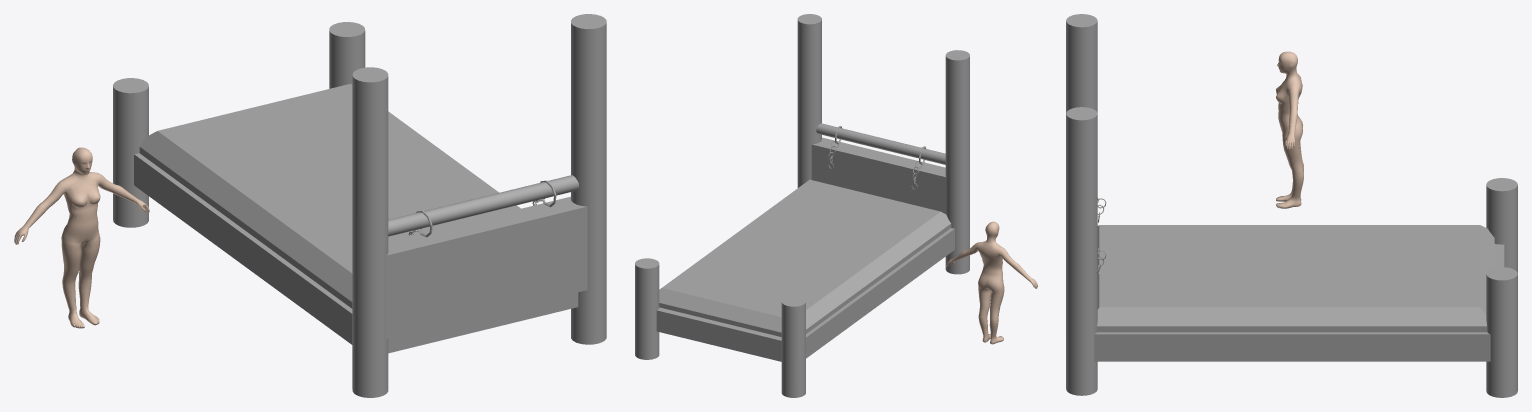
Rendered from Asset_Bed_1_Scaled.fbx.
The picture shows the model from 3 angles, left to right: view 1: azimuth 30°, elevation 25°; view 2: azimuth 150°, elevation 25°; view 3: azimuth 270°, elevation 25°; orthographic projection. The views are drawn at different scales.
Parts seen in each view (by area): view 1: pCube1, pCube2, pasted__pCylinder1 (×2), pCylinder1, pasted__pCube1, pasted__pasted__pasted__pasted__pCylinder1 (×2), CharacterFemale:woman; view 2: pCube1, pasted__pCube1, pCube2, pasted__pCylinder1 (×2), pCylinder1, pasted__pasted__pasted__pasted__pCylinder1 (×2), CharacterFemale:woman; view 3: pCube1, pasted__pCube1, pasted__pCylinder1, pasted__pasted__pasted__pasted__pCylinder1 (×2), pCylinder1, CharacterFemale:woman.
Part boxes in pixels (box(x1,y1,x2,y2)): pCube1: box(139, 84, 520, 308); pCube2: box(386, 196, 587, 338); pasted__pCylinder1 (×2): box(388, 14, 606, 344); pCylinder1: box(352, 67, 388, 397); pasted__pCube1: box(134, 153, 578, 353); pasted__pasted__pasted__pasted__pCylinder1 (×2): box(113, 22, 365, 227); CharacterFemale:woman: box(14, 147, 149, 328); pCube1: box(659, 179, 951, 336); pasted__pCube1: box(656, 228, 954, 361); pCube2: box(811, 137, 946, 214); pasted__pCylinder1 (×2): box(797, 14, 945, 187); pCylinder1: box(945, 50, 969, 274); pasted__pasted__pasted__pasted__pCylinder1 (×2): box(635, 258, 805, 397); CharacterFemale:woman: box(946, 221, 1037, 344); pCube1: box(1097, 225, 1494, 332); pasted__pCube1: box(1094, 244, 1504, 361); pasted__pCylinder1: box(1066, 107, 1097, 395); pasted__pasted__pasted__pasted__pCylinder1 (×2): box(1486, 178, 1517, 397); pCylinder1: box(1066, 14, 1097, 113); CharacterFemale:woman: box(1276, 51, 1303, 208).
Bounding box in the file's own units: 4.89 × 3.2 × 4.66.
